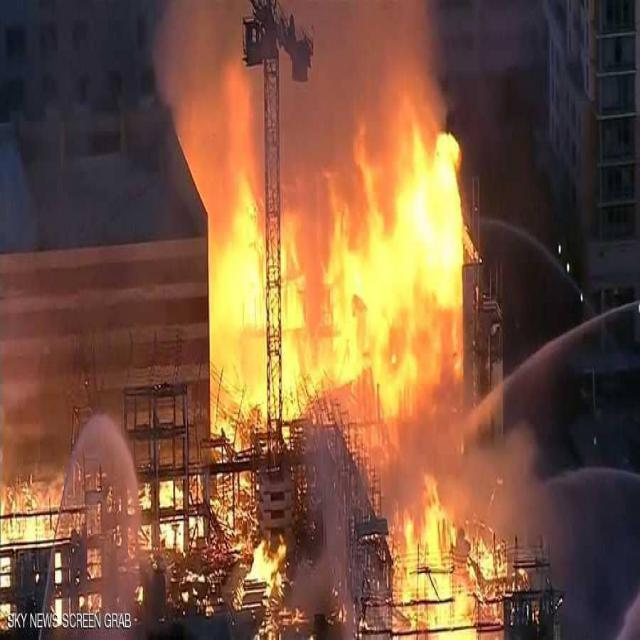Fire: (215, 136, 498, 640)
